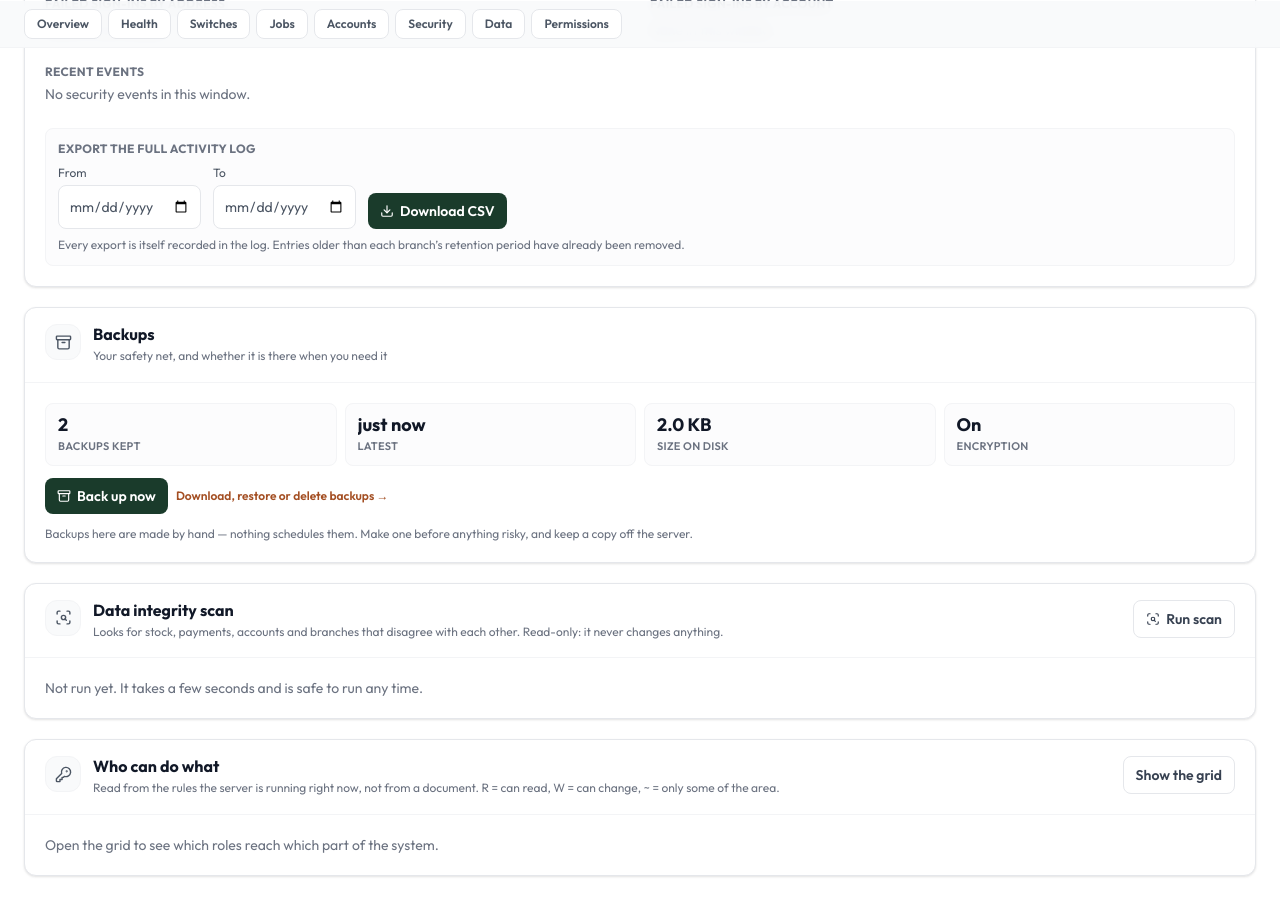
Scenario: ControlCenterPage › the permission grid is read on demand, not on load
(page scrolled)
Click the button "Show the grid": (1179, 775) x1=1123 y1=756 x2=1235 y2=794
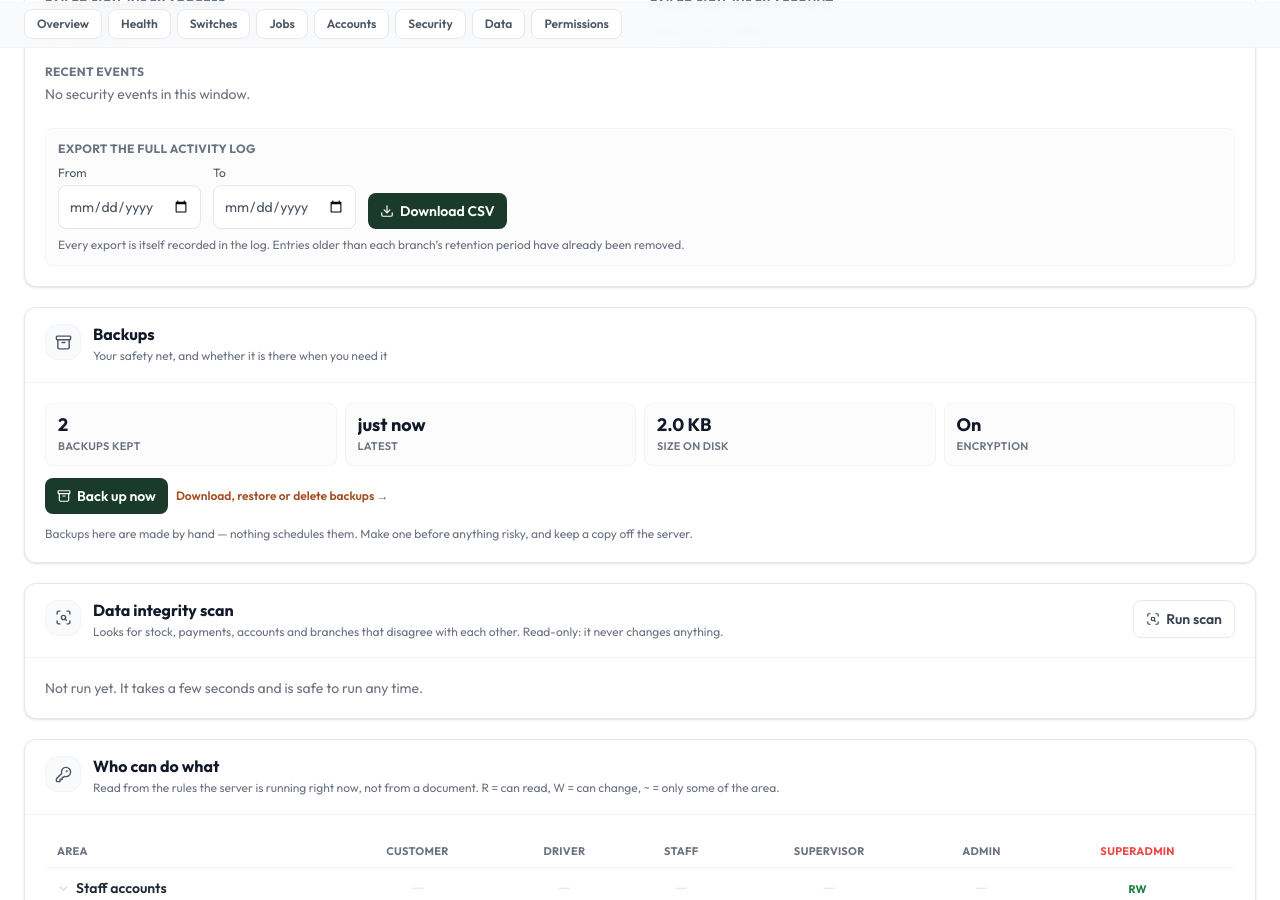
expect the text "Staff accounts" is shown: met, box x1=76 y1=878 x2=167 y2=898
